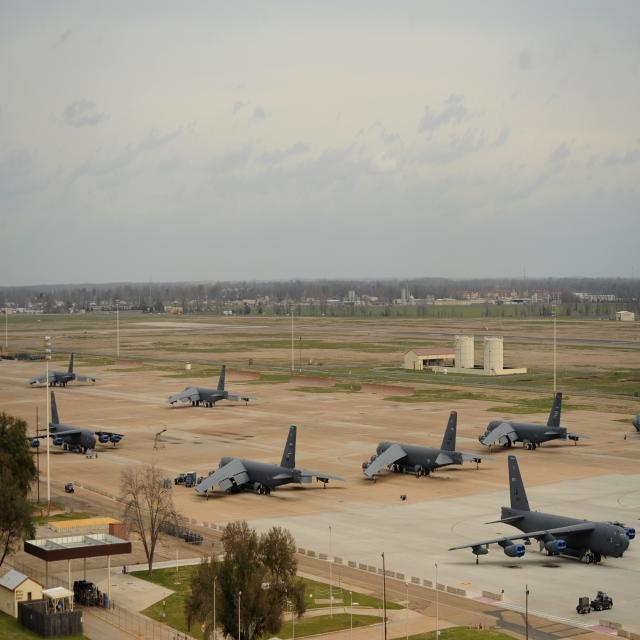MIL_Plane: (428, 455, 617, 565), (1, 425, 154, 501), (362, 411, 498, 484), (478, 392, 594, 453), (25, 391, 125, 453), (174, 363, 250, 407), (25, 352, 103, 388)
